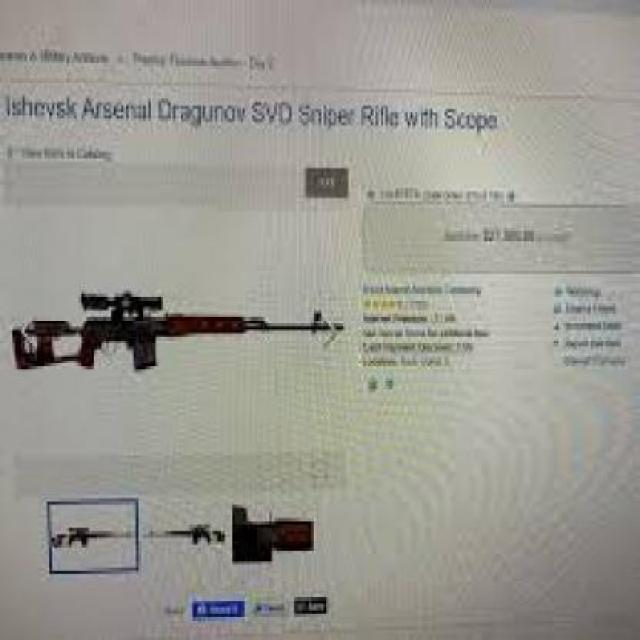weapon: (9, 278, 348, 397), (143, 510, 238, 551)
